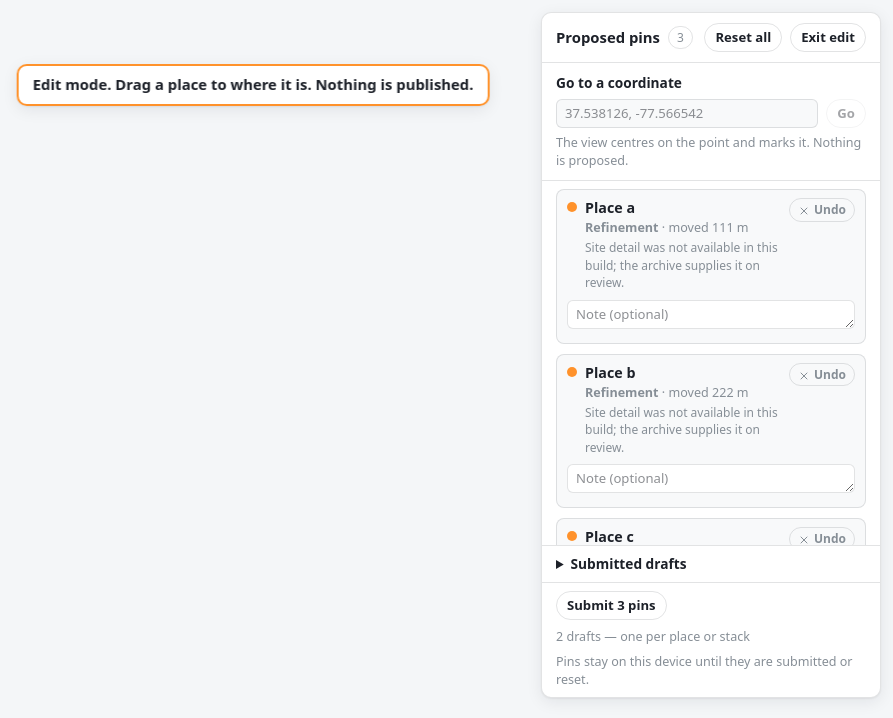
Test: a build without the Worker never pretends: the pins stay and the line says so
This screenshot has width=893, height=718.
What coordinates should you click on to do the following:
click the button "Submit 3 pins"
I would click on:
 (611, 606)
Its box is [556,591,666,620].
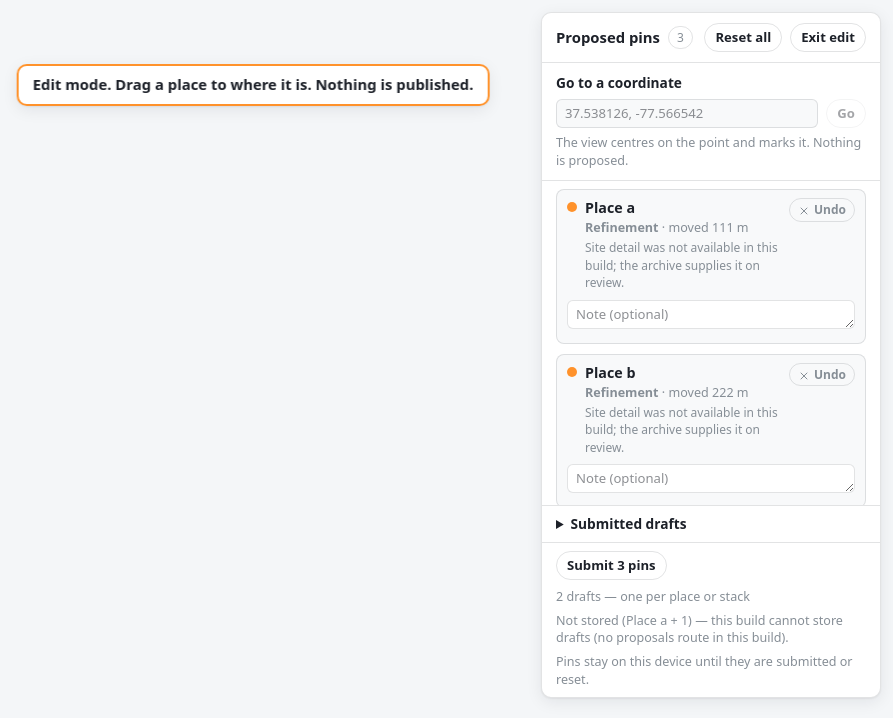
Expected: the text "3" is shown, [668,26,693,49]
Expected: the 3rd list item shows "this build cannot store drafts (no proposals route in this build)", [556,612,843,646]
